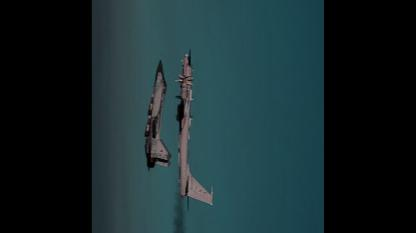Mig31: (144, 51, 172, 169)
Su57: (174, 47, 213, 210)
